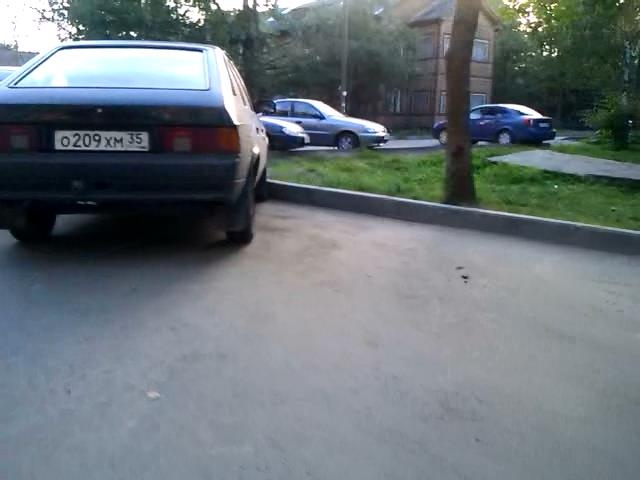car license plate: (53, 129, 148, 151)
